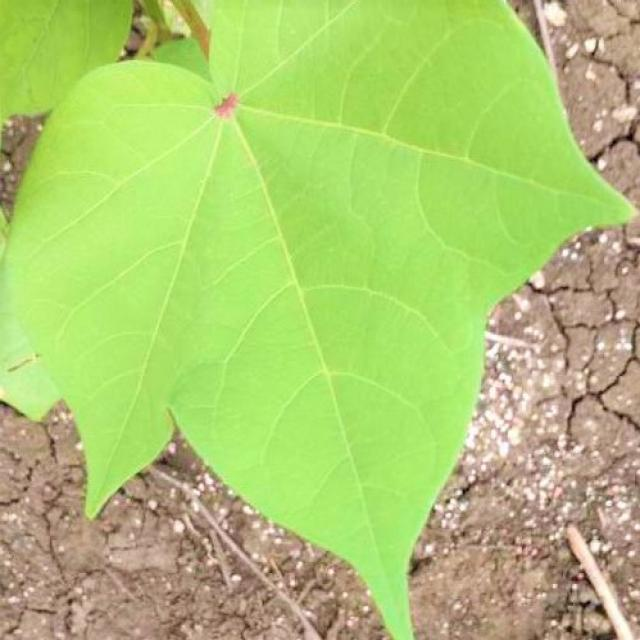Healthy Leaf: (4, 30, 640, 640)
